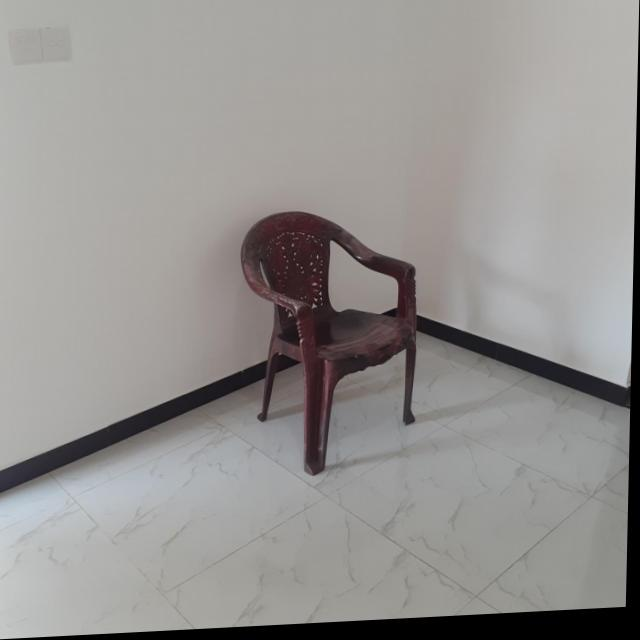Chair: (236, 208, 421, 483)
